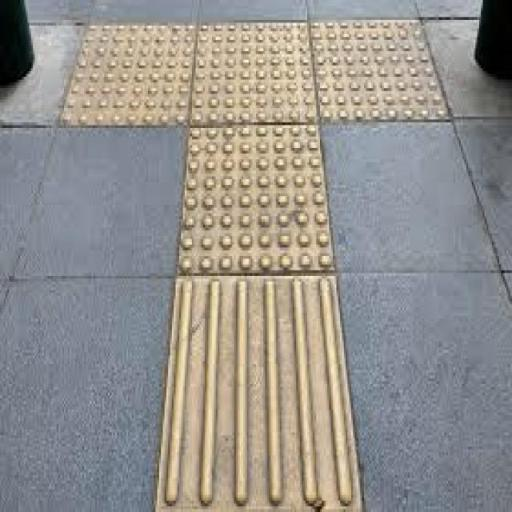dot: (174, 124, 337, 274), (309, 20, 453, 121), (55, 22, 196, 125), (188, 21, 322, 124)
line: (156, 271, 364, 511)
